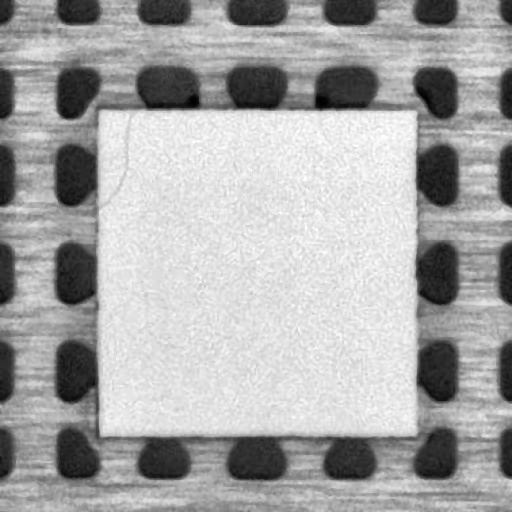DIE_CRACK: (98, 107, 134, 208)
